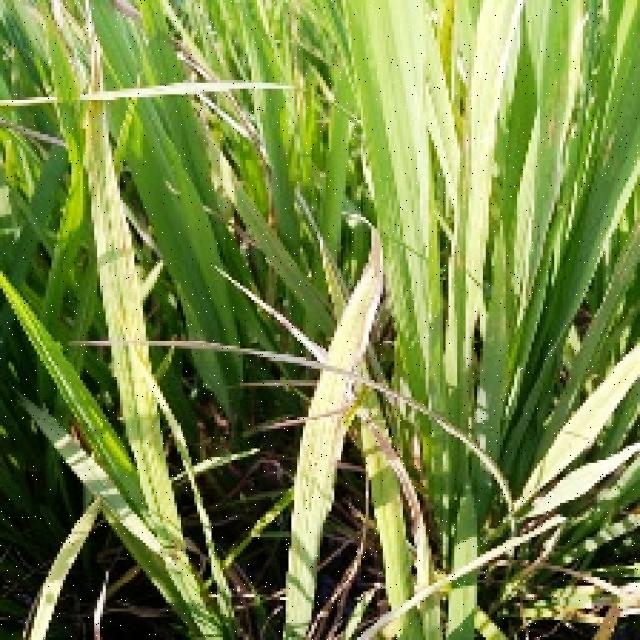unhealth: (345, 216, 452, 640)
